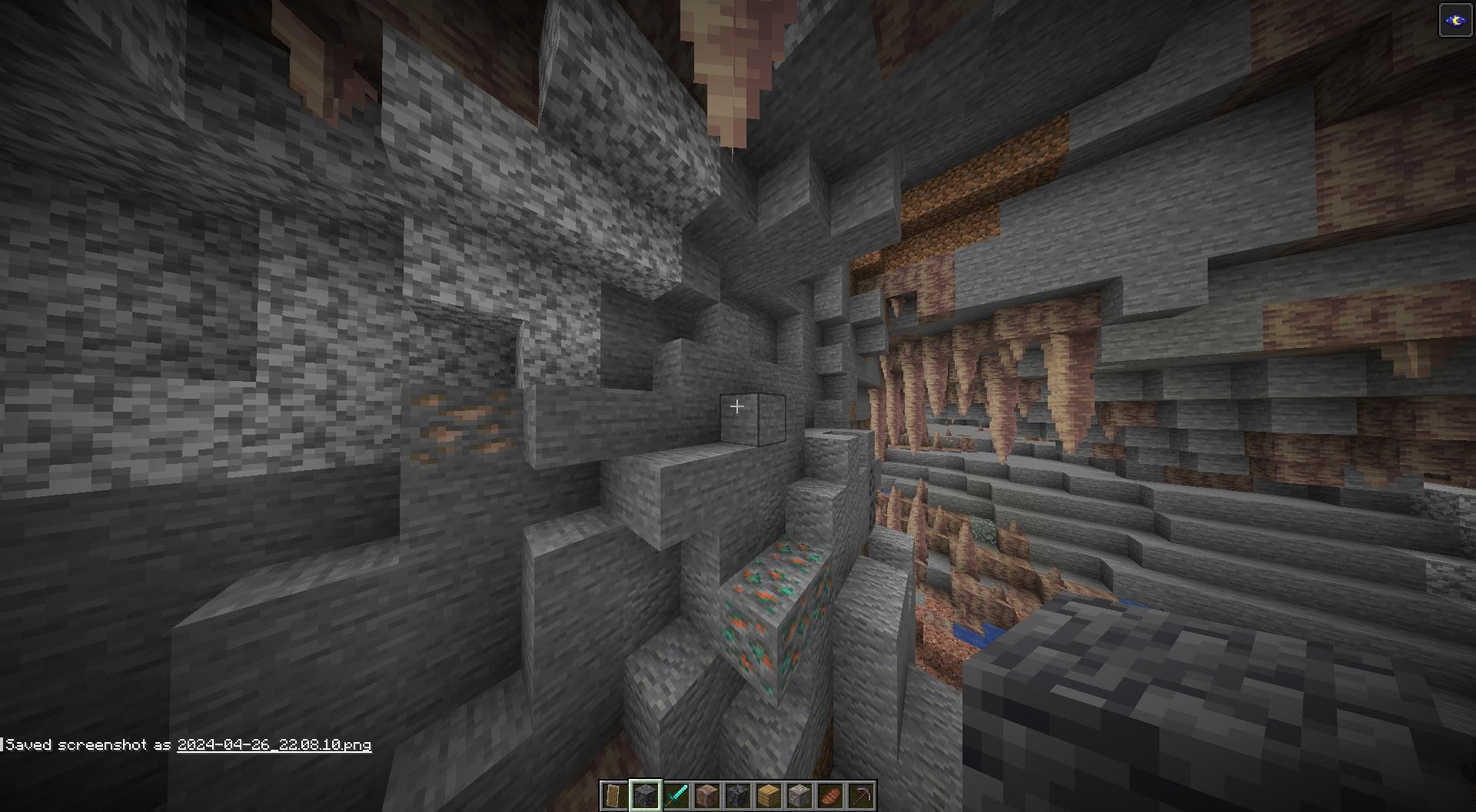iron ore: (403, 386, 530, 465)
